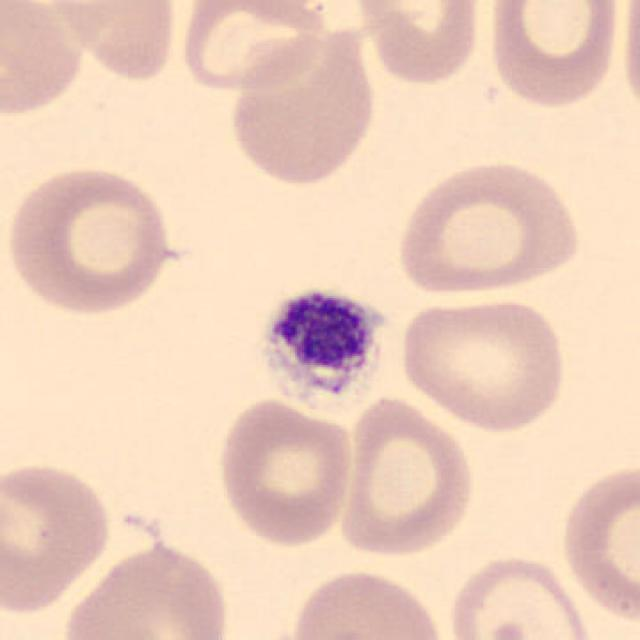Platelets: (254, 280, 391, 412)
RBC: (391, 155, 587, 300), (2, 161, 181, 319), (224, 23, 380, 190), (397, 291, 572, 434), (332, 391, 478, 561), (214, 395, 358, 550), (0, 456, 117, 617), (57, 537, 233, 640), (482, 0, 624, 111), (554, 456, 640, 631), (176, 0, 332, 95), (443, 550, 597, 640), (286, 564, 450, 640), (37, 0, 183, 85), (349, 0, 487, 88), (0, 0, 89, 122), (617, 0, 640, 127)
